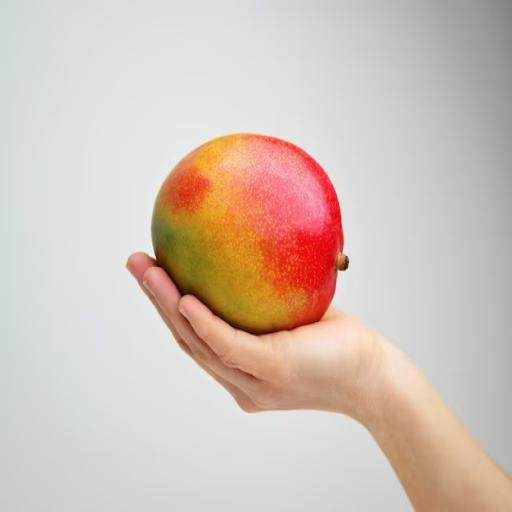mango: (152, 134, 347, 333)
